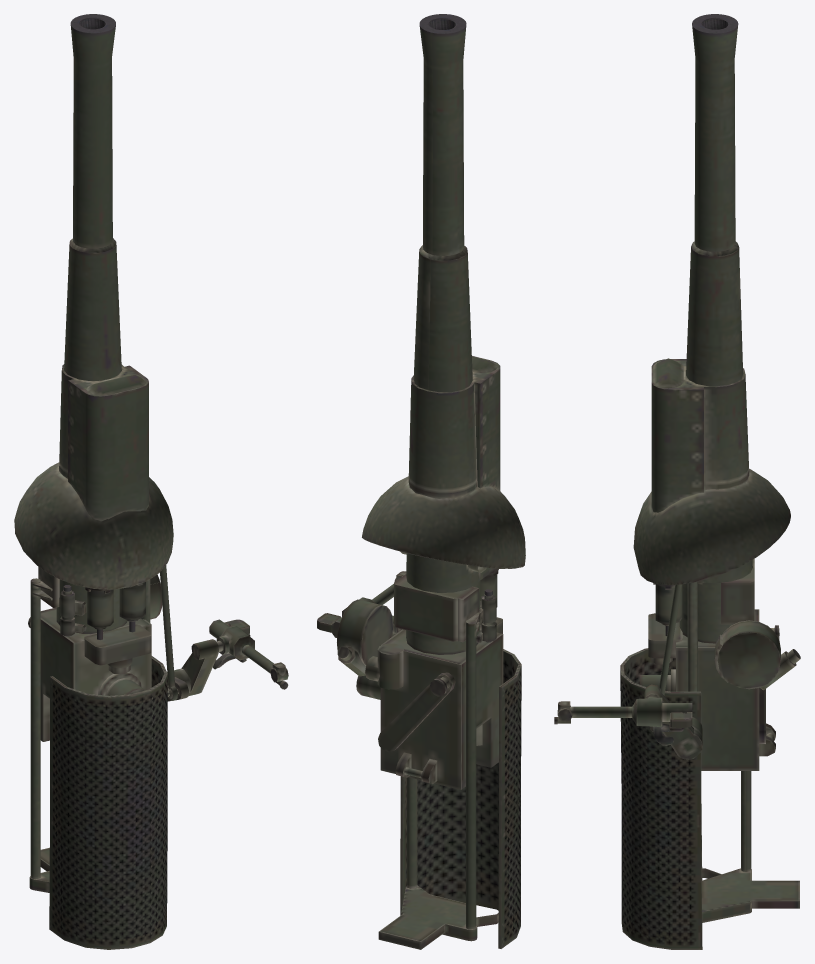
Rendered from Gun_01.glb.
The picture shows the model from 3 angles, left to right: view 1: azimuth 30°, elevation 25°; view 2: azimuth 150°, elevation 25°; view 3: azimuth 270°, elevation 25°; orthographic projection. The views are drawn at different scales.
Visible parts, largest first — view 1: set_0_group_0; view 2: set_0_group_0; view 3: set_0_group_0.
Boxes of the visible parts, x1=… form: set_0_group_0: x1=14, y1=14, x2=288, y2=949; set_0_group_0: x1=317, y1=14, x2=525, y2=949; set_0_group_0: x1=554, y1=14, x2=800, y2=949.
Bounding box in the file's own units: 0.7034 × 2.9 × 0.7178.
1 material, 1 textured.
